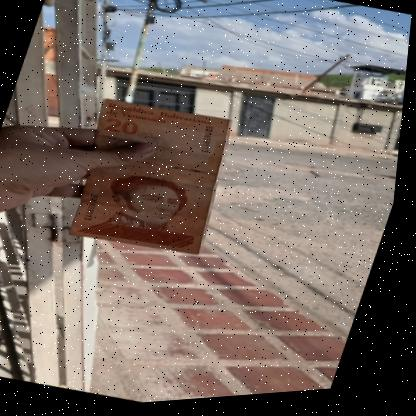twenty-front-vef: (61, 91, 249, 267)
